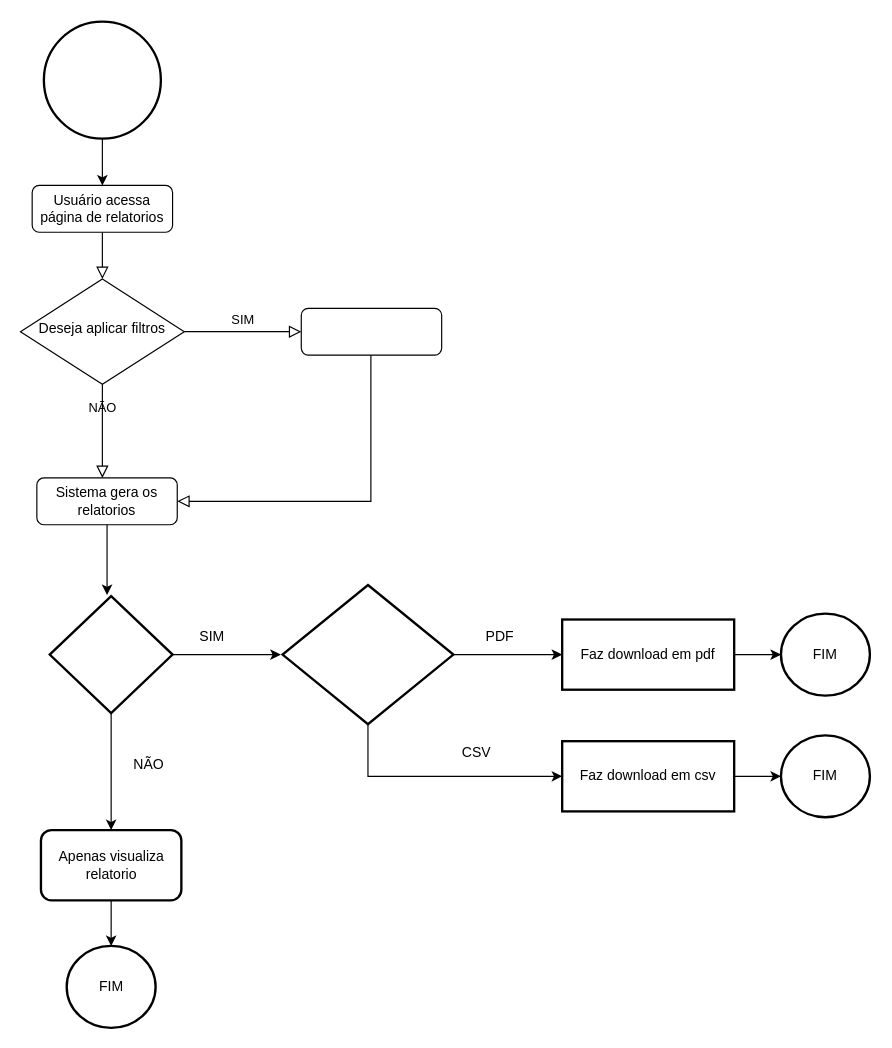
Some shapes in this 892 by 1048 pixel diagram are drawn without their labels. Here are the shapes that lost their labels. From the top down, the box of each, then its label:
(42, 20, 161, 139): Inicio
(300, 307, 442, 355): Seleciona os filtros
(48, 594, 173, 714): Deseja Exportar
(281, 583, 454, 725): Qual formato deseja exportar?
